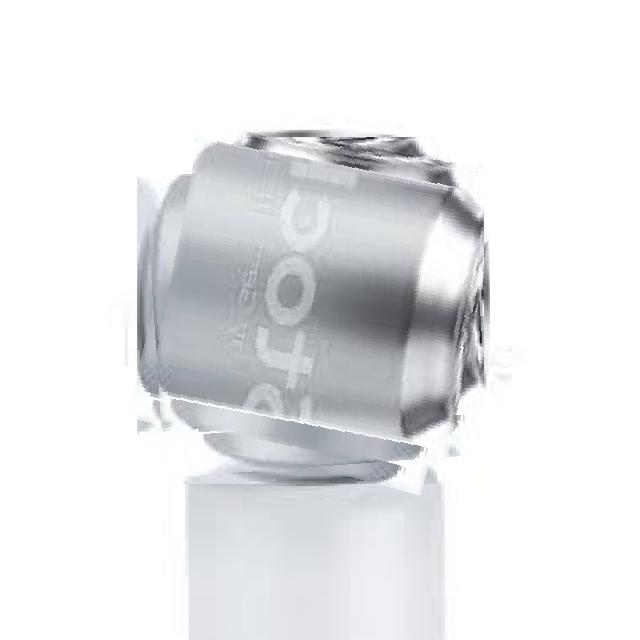recyclable: (142, 137, 484, 478)
